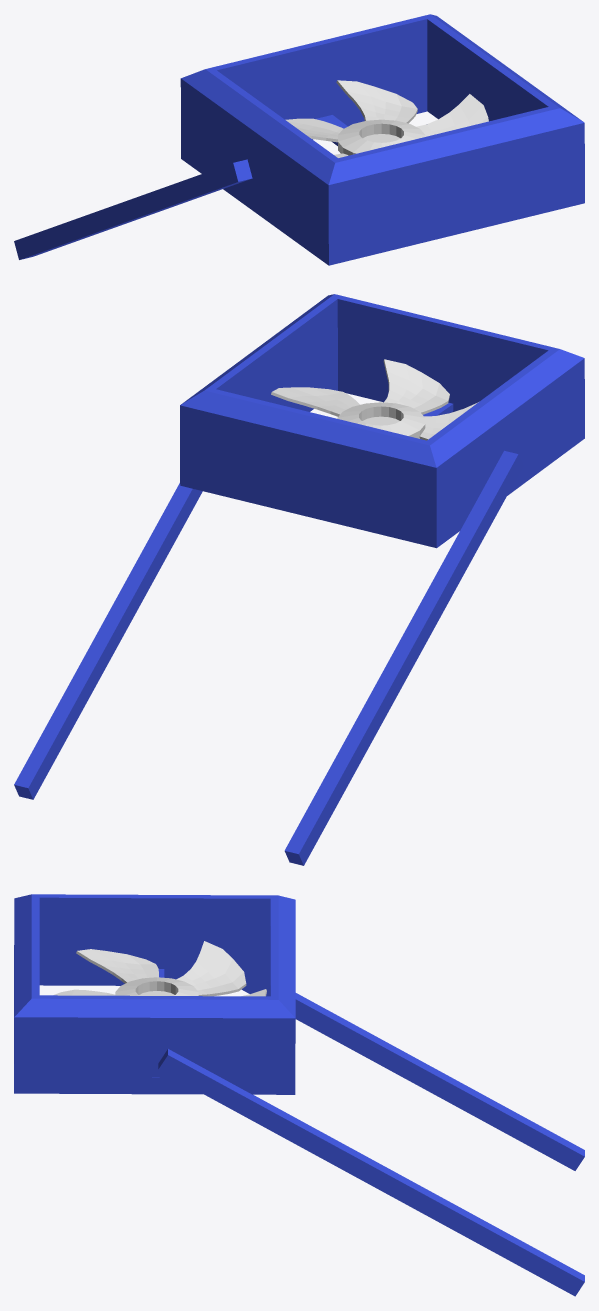
The model's file is paiqishan.gltf.
The picture shows the model from 3 angles, top to bottom: view 1: azimuth 30°, elevation 25°; view 2: azimuth 150°, elevation 25°; view 3: azimuth 270°, elevation 25°; orthographic projection. The views are drawn at different scales.
Parts seen in each view (by area): view 1: extents_265, 环体; view 2: extents_265, 环体; view 3: extents_265, 环体.
Boxes of the visible parts, x1,y1,x2,y2 form: extents_265: (14,14,584,265); 环体: (285,80,488,157); extents_265: (14,294,584,865); 环体: (271,359,478,440); extents_265: (14,894,584,1296); 环体: (53,941,266,996).
Bounding box in the file's own units: 0.2809 × 0.2825 × 0.514.
